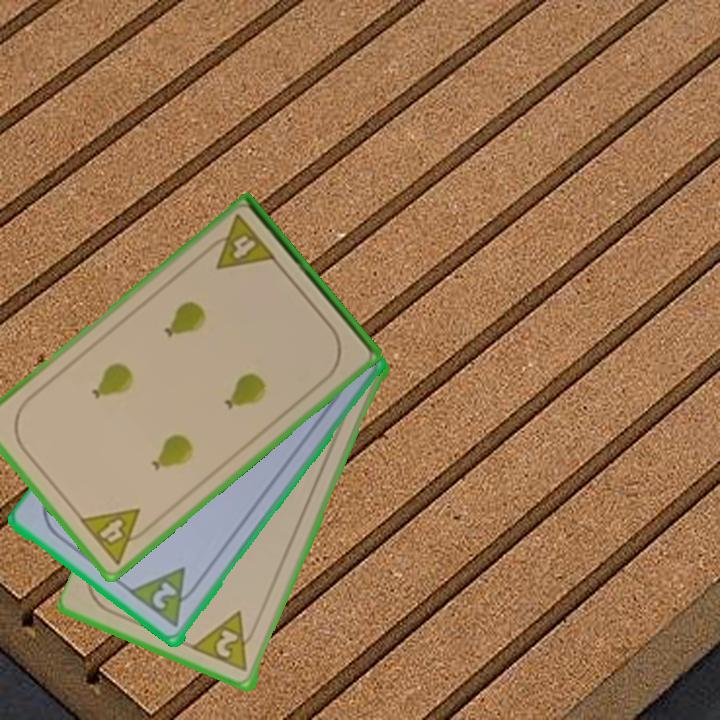2p: (126, 564, 205, 632), (191, 608, 261, 675)
4p: (76, 505, 156, 568), (201, 211, 279, 273)
